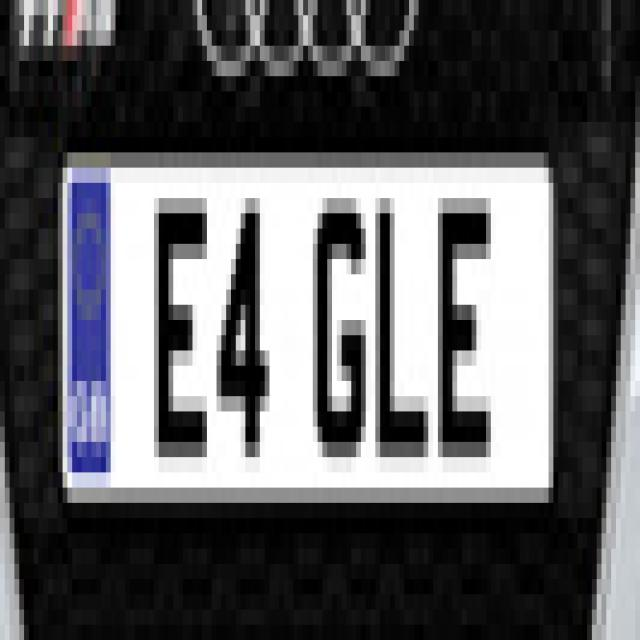4: (216, 177, 274, 475)
E: (149, 161, 218, 483), (433, 175, 495, 485)
G: (310, 187, 374, 475)
L: (372, 170, 434, 468)
